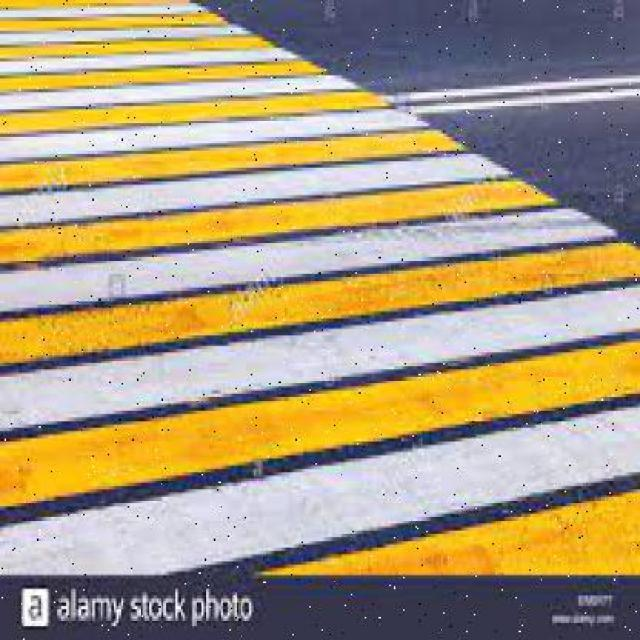crosswalk: (0, 0, 640, 576)
